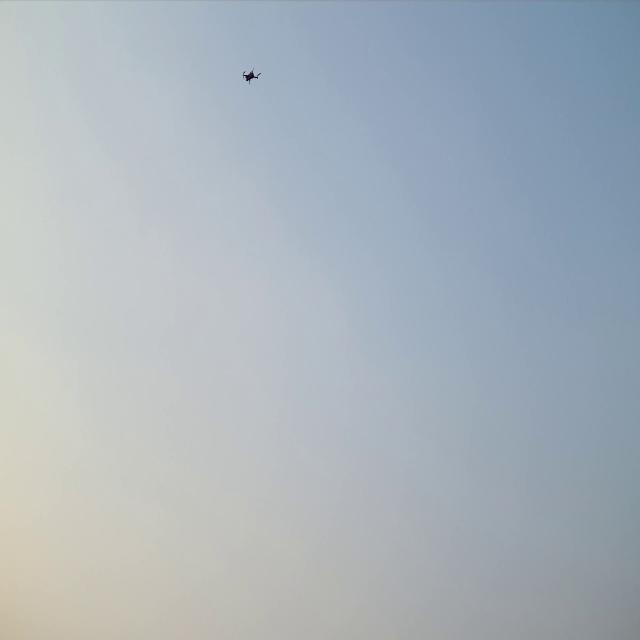UAV: (240, 68, 262, 85)
